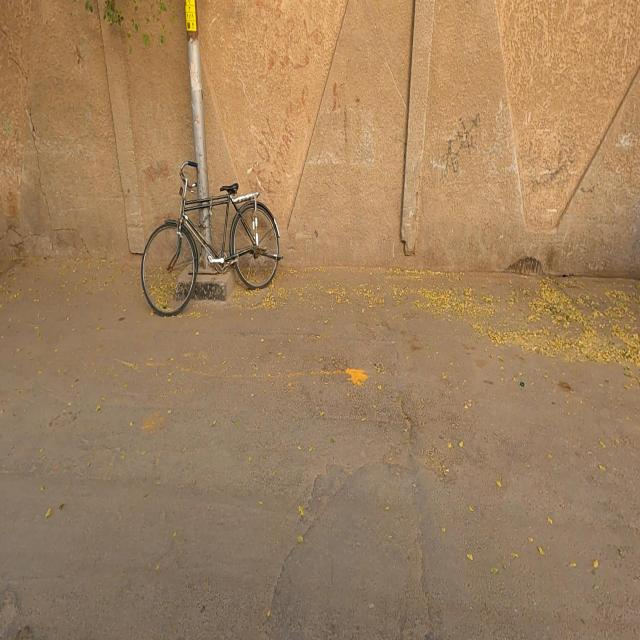Graffiti: (248, 86, 309, 190), (260, 20, 325, 73), (441, 115, 483, 175)
